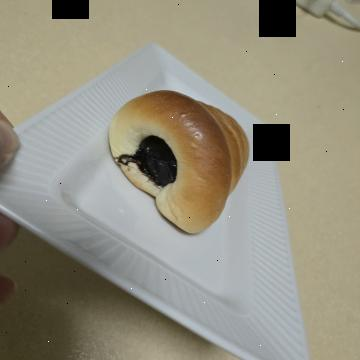cream horn: (86, 87, 262, 256)
